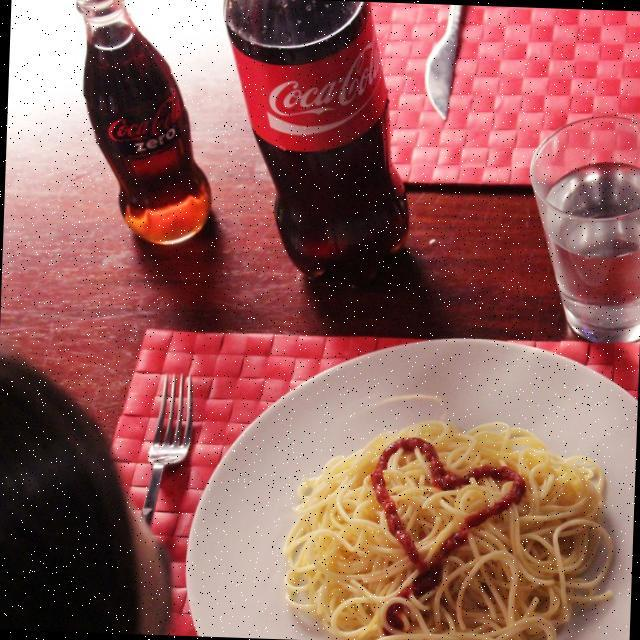coca-cola: (213, 0, 419, 277), (64, 0, 220, 248)
